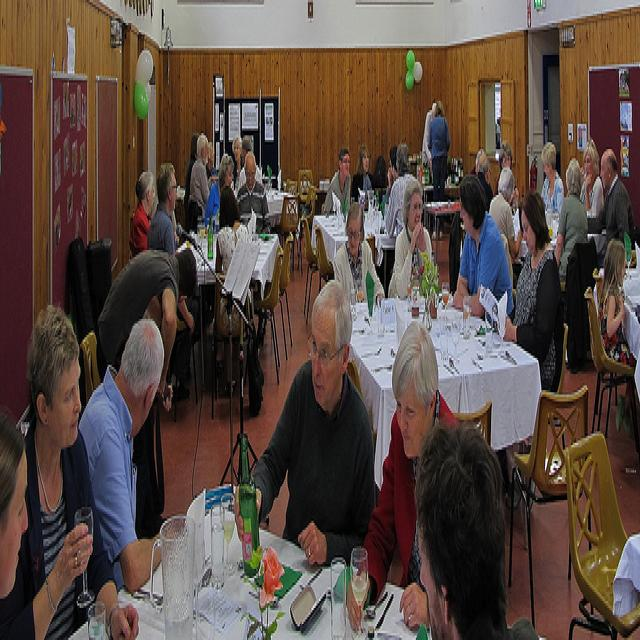chair: (507, 381, 589, 629), (563, 432, 640, 640), (584, 288, 639, 455), (261, 242, 291, 385), (451, 398, 494, 445), (301, 216, 318, 324), (279, 232, 293, 360), (278, 193, 300, 270), (81, 329, 101, 405), (315, 227, 335, 295), (283, 165, 313, 206), (300, 185, 317, 237), (558, 322, 568, 393), (592, 269, 604, 318)
dining table: (119, 528, 415, 640), (351, 287, 538, 393), (311, 191, 397, 294), (517, 225, 607, 258), (423, 201, 460, 268), (612, 531, 640, 613), (259, 530, 307, 571), (619, 267, 640, 327), (266, 187, 297, 216), (446, 185, 459, 193), (424, 185, 438, 191), (438, 185, 445, 193)
